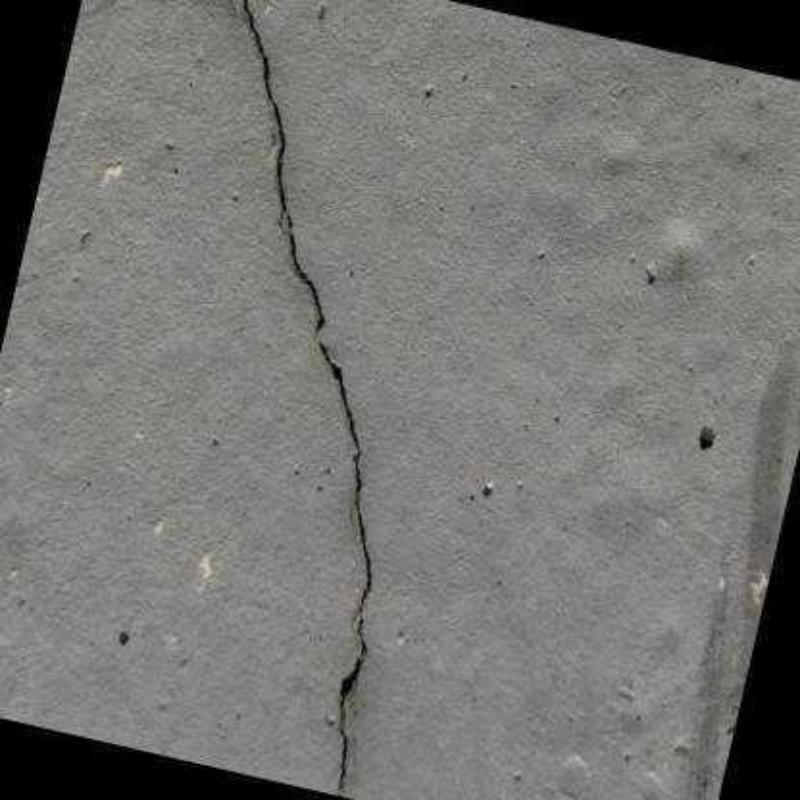crack: (243, 0, 373, 795)
